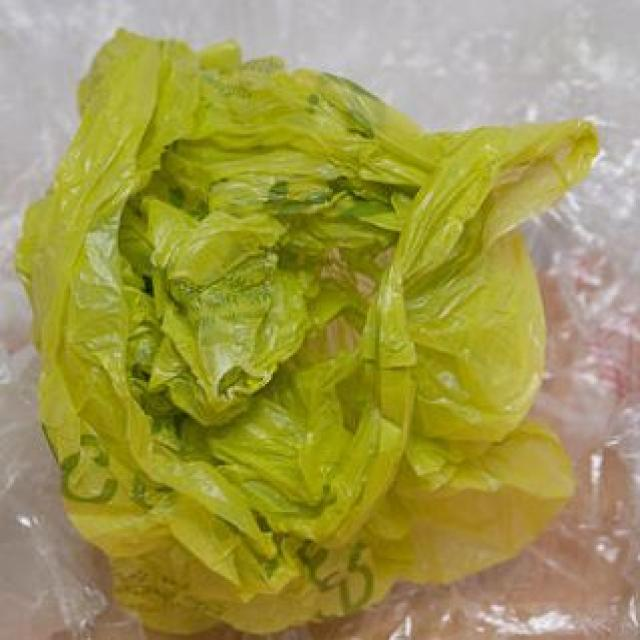general: (26, 29, 604, 626)
